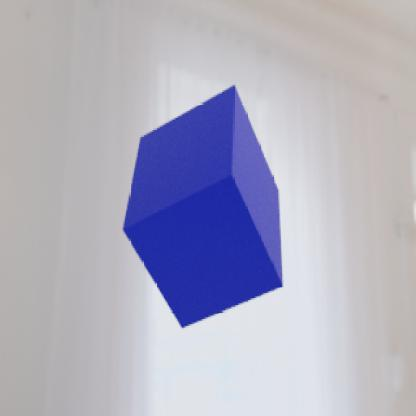blue_cube: (121, 84, 284, 330)
